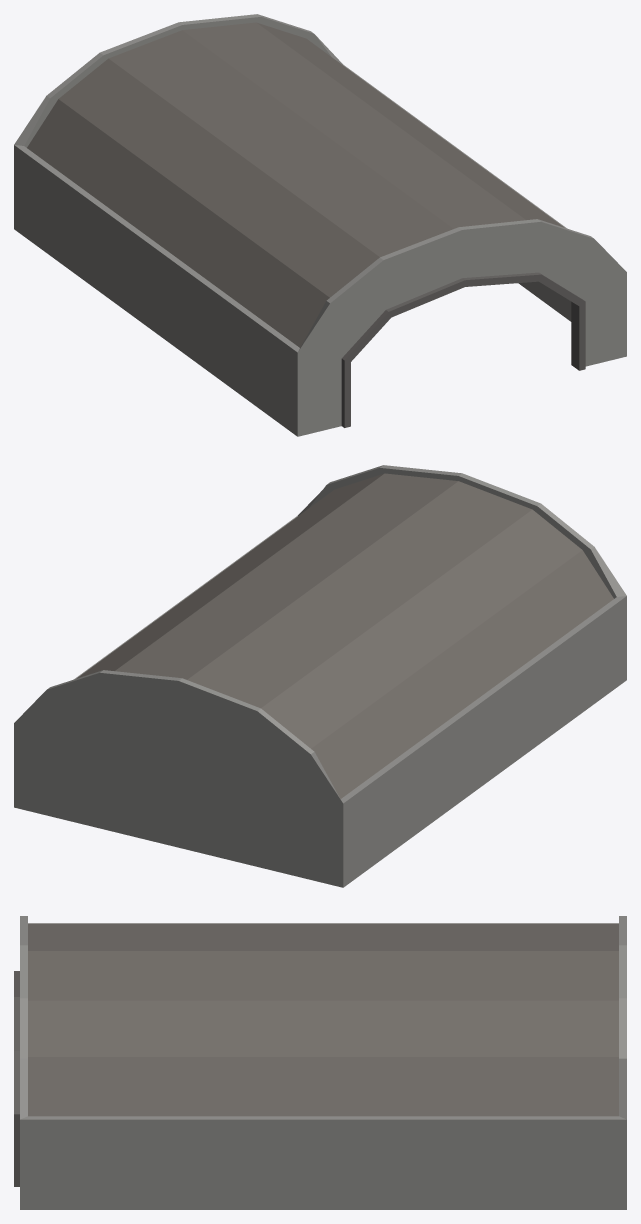
File: SM_Bldg_City_Airport_Hanger.fbx
The picture shows the model from 3 angles, top to bottom: view 1: azimuth 30°, elevation 25°; view 2: azimuth 150°, elevation 25°; view 3: azimuth 270°, elevation 25°; orthographic projection. The views are drawn at different scales.
Parts seen in each view (by area): view 1: SM_Bldg_City_Airport_Hanger; view 2: SM_Bldg_City_Airport_Hanger; view 3: SM_Bldg_City_Airport_Hanger.
Boxes of the visible parts, x1,y1,x2,y2 form: SM_Bldg_City_Airport_Hanger: [14, 14, 626, 436]; SM_Bldg_City_Airport_Hanger: [14, 465, 626, 887]; SM_Bldg_City_Airport_Hanger: [14, 916, 626, 1209].
Size of the model in its own units: 4087 by 1978 by 6160.
